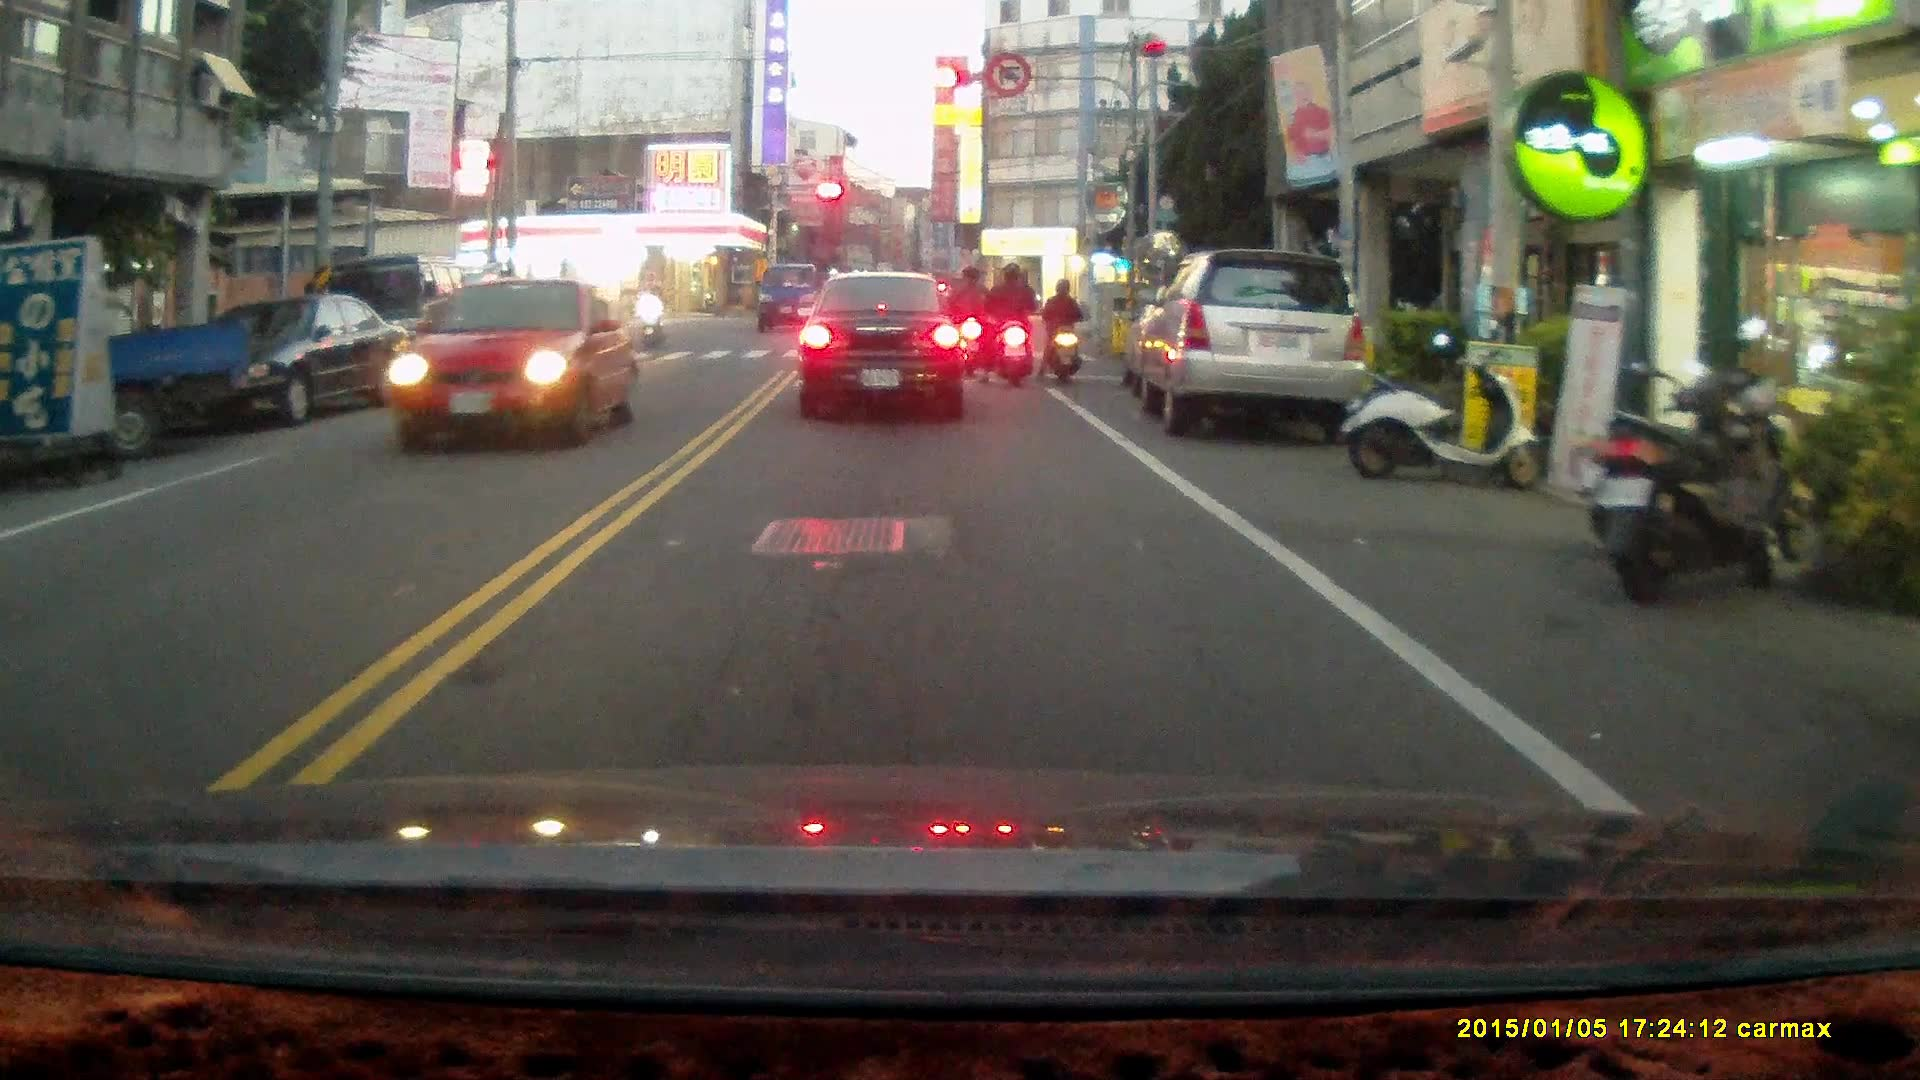rider: (978, 262, 1037, 391), (1034, 276, 1083, 387), (941, 265, 984, 378), (637, 279, 668, 347)
vehicle: (1130, 248, 1377, 442), (377, 275, 642, 451), (150, 293, 405, 426), (796, 269, 965, 423), (304, 252, 470, 397)
